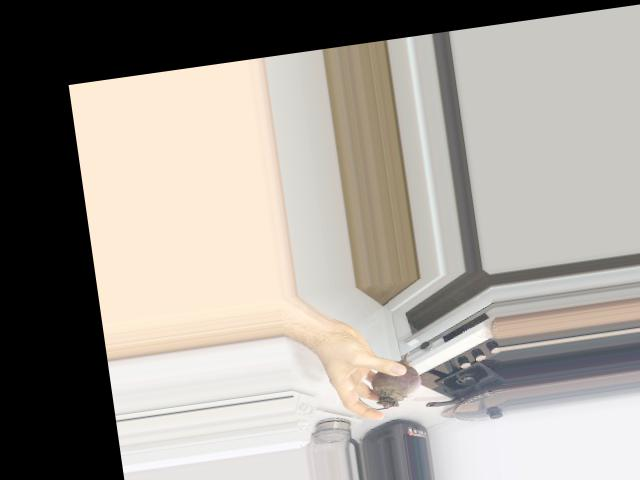beet: (354, 350, 424, 411)
